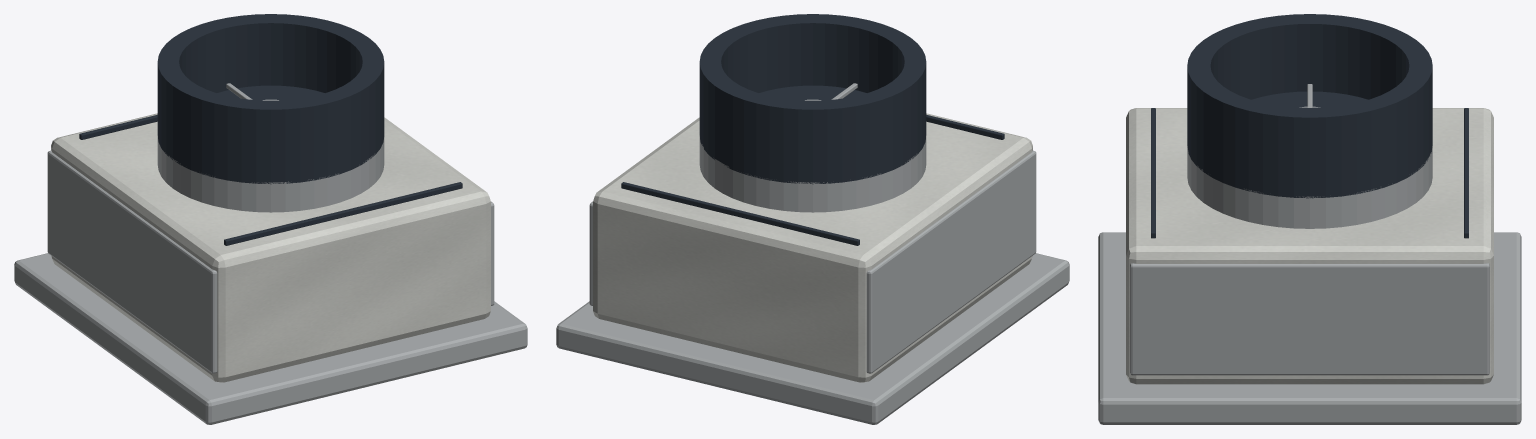
The model's file is telescope_coronagraph.glb.
3 renders of one model, left to right at view 1: azimuth 30°, elevation 25°; view 2: azimuth 150°, elevation 25°; view 3: azimuth 270°, elevation 25°, orthographic. The views are drawn at different scales.
Visible parts, largest first — view 1: Coronagraph_Housing, Coronagraph_Baffle, Mount_Base.005, Module_Rail.006, Coronagraph_Optics, Module_Seam.006, Optical_Field, Module_Seam.007; view 2: Coronagraph_Housing, Coronagraph_Baffle, Mount_Base.005, Module_Rail.006, Coronagraph_Optics, Module_Seam.007, Optical_Field, Module_Seam.006; view 3: Module_Rail.007, Coronagraph_Baffle, Coronagraph_Housing, Mount_Base.005, Coronagraph_Optics, Optical_Field, Module_Seam.006, Module_Seam.007.
Part boxes in pixels (left/top/right/bottom): Coronagraph_Housing: left=51, top=113, right=490, bottom=382; Coronagraph_Baffle: left=157, top=14, right=384, bottom=184; Mount_Base.005: left=14, top=253, right=527, bottom=424; Module_Rail.006: left=47, top=150, right=217, bottom=373; Coronagraph_Optics: left=157, top=136, right=384, bottom=212; Module_Seam.006: left=224, top=182, right=462, bottom=245; Optical_Field: left=217, top=85, right=324, bottom=100; Module_Seam.007: left=79, top=114, right=157, bottom=139; Coronagraph_Housing: left=593, top=113, right=1032, bottom=382; Coronagraph_Baffle: left=699, top=14, right=926, bottom=184; Mount_Base.005: left=556, top=253, right=1069, bottom=424; Module_Rail.006: left=866, top=150, right=1036, bottom=373; Coronagraph_Optics: left=699, top=136, right=926, bottom=212; Module_Seam.007: left=621, top=182, right=859, bottom=245; Optical_Field: left=759, top=85, right=866, bottom=100; Module_Seam.006: left=926, top=114, right=1004, bottom=139; Module_Rail.007: left=1130, top=263, right=1489, bottom=375; Coronagraph_Baffle: left=1187, top=14, right=1432, bottom=198; Coronagraph_Housing: left=1126, top=108, right=1493, bottom=384; Mount_Base.005: left=1098, top=232, right=1521, bottom=424; Coronagraph_Optics: left=1187, top=146, right=1432, bottom=228; Optical_Field: left=1252, top=91, right=1367, bottom=107; Module_Seam.006: left=1151, top=108, right=1155, bottom=238; Module_Seam.007: left=1464, top=108, right=1468, bottom=238.
Size of the model in its own units: 0.95 by 0.72 by 1.
3 materials, 1 textured.
